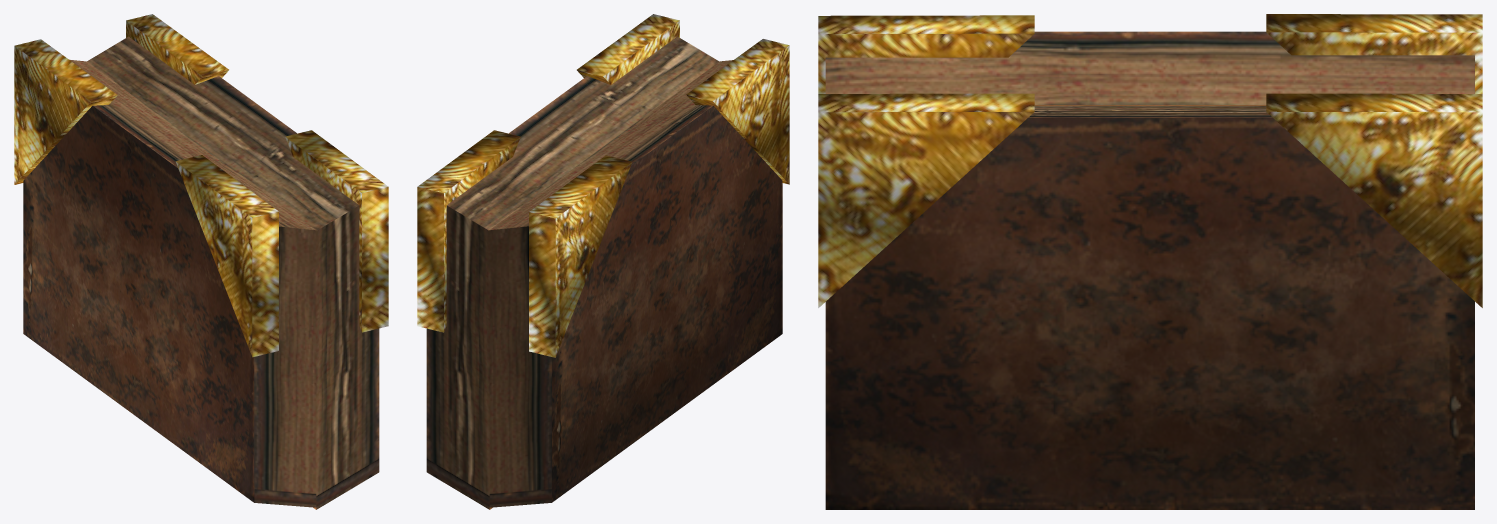
File: book01.FBX
The picture shows the model from 3 angles, left to right: view 1: azimuth 30°, elevation 25°; view 2: azimuth 150°, elevation 25°; view 3: azimuth 270°, elevation 25°; orthographic projection. The views are drawn at different scales.
Visible parts, largest first — view 1: book01B, book01A; view 2: book01B, book01A; view 3: book01A, book01B.
Boxes of the visible parts, left/top/right/bottom form: book01B: left=14, top=39, right=316, bottom=507; book01A: left=86, top=14, right=388, bottom=509; book01B: left=489, top=39, right=789, bottom=507; book01A: left=417, top=14, right=719, bottom=509; book01A: left=818, top=93, right=1482, bottom=509; book01B: left=818, top=14, right=1482, bottom=105.
Size of the model in its own units: 0.1828 by 0.3921 by 0.5404.
